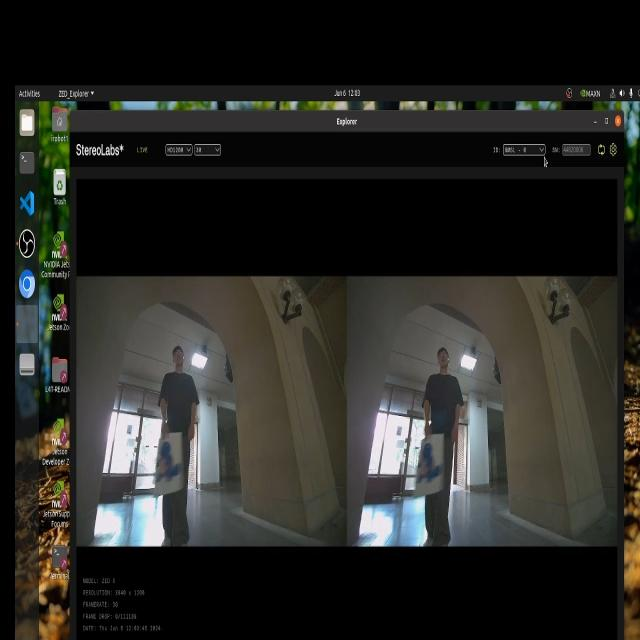blue: (154, 437, 182, 487), (416, 442, 441, 484)
